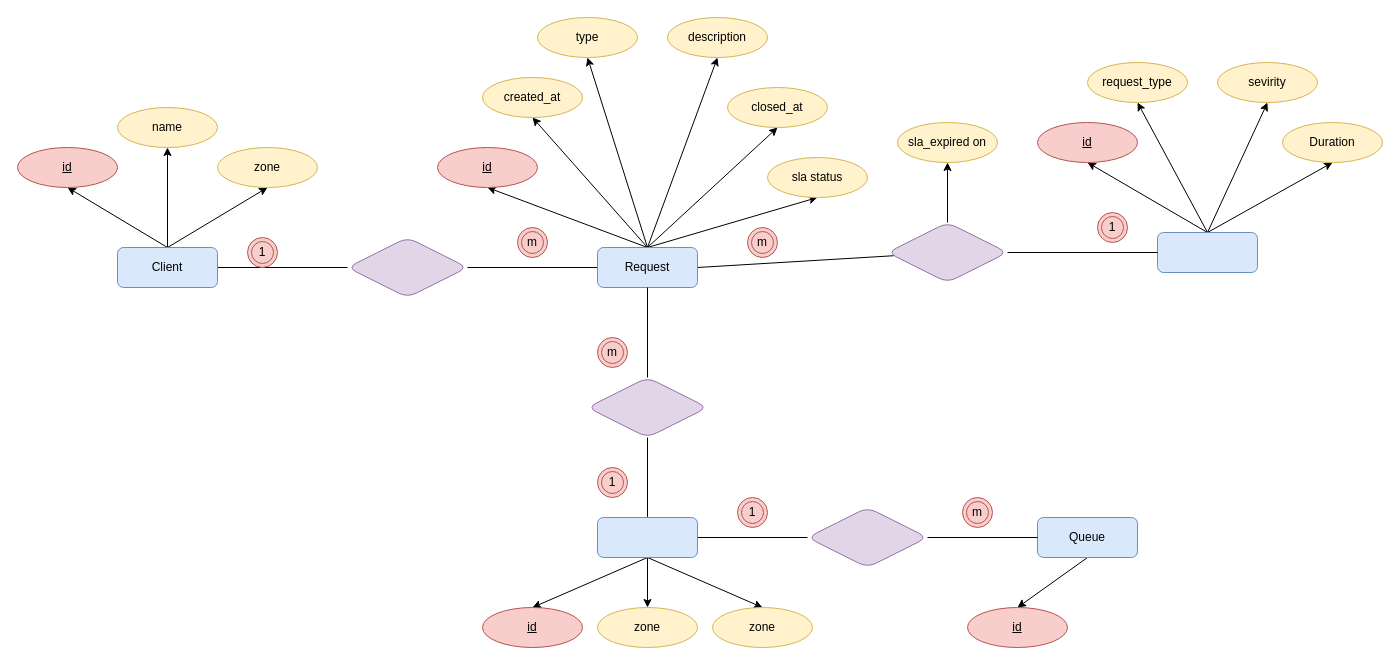
Some shapes in this 1400 by 665 pixel diagram are drawn without their labels. Here are the shapes that lost their labels. From the top down, the centre of each, then its label:
At pixel 407 267: "Create".
At pixel 947 252: "Has".
At pixel 1207 252: "SLA".
At pixel 647 407: "Handle".
At pixel 647 537: "User".
At pixel 867 537: "related to".
